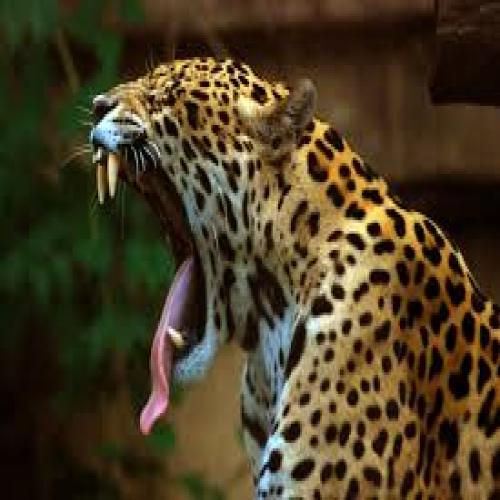jaguar_not-endangered: (89, 54, 496, 500), (80, 385, 80, 386)
